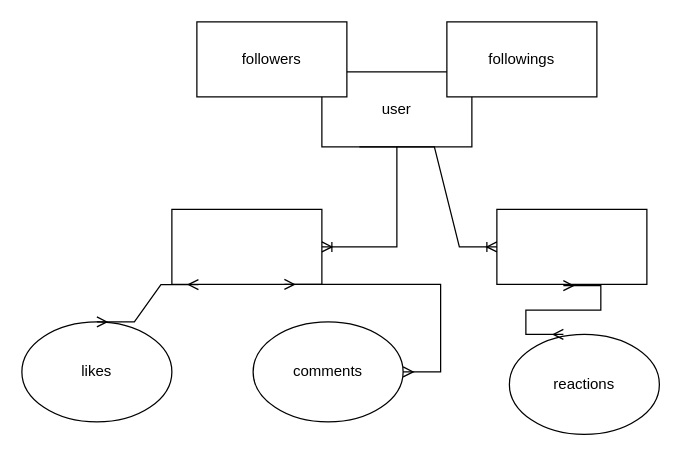
Some shapes in this 681 by 456 pixel diagram are drawn without their labels. The centre of each missing label's shape, as x and y in pixels:
"posts" belongs at [246,246].
"stories" belongs at [571,246].
